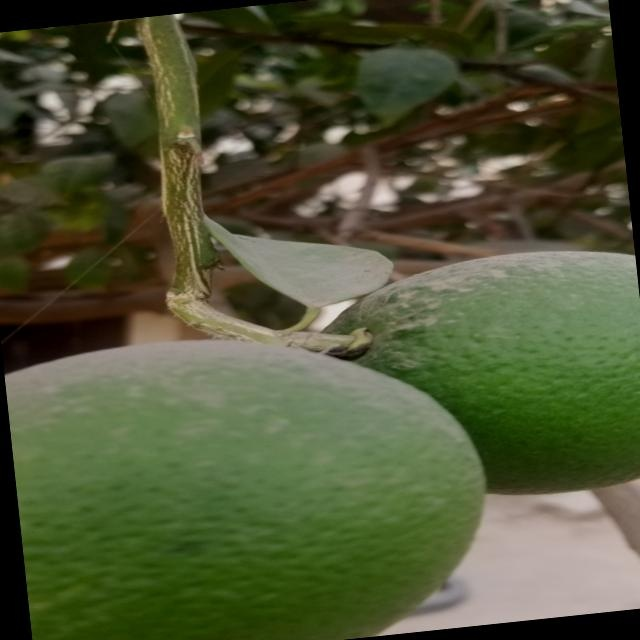agrume: (2, 309, 499, 640), (328, 241, 640, 515)
